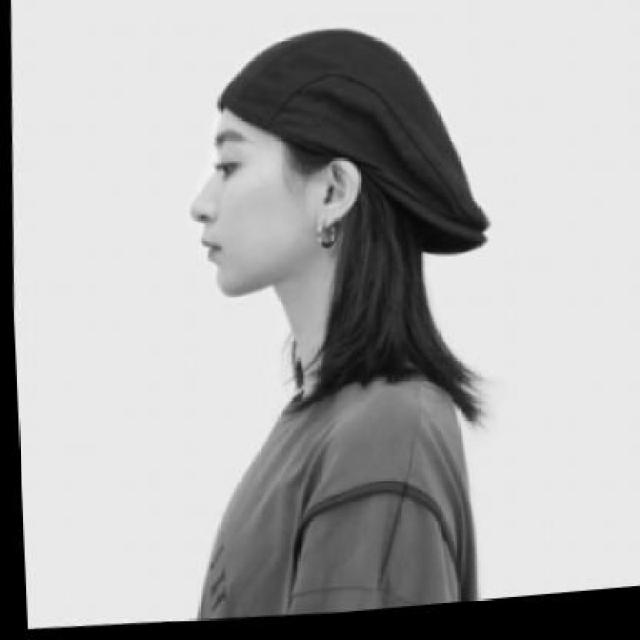hat: (203, 15, 499, 297)
